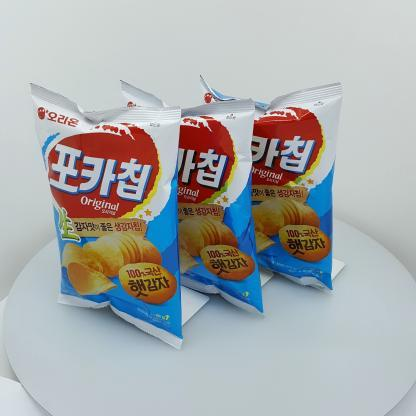Plastic Packaging: (24, 59, 188, 355), (236, 80, 341, 292), (171, 89, 260, 315)
